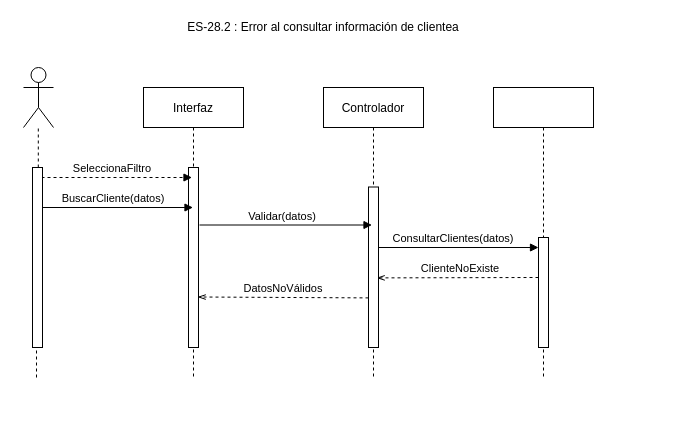
The diagram is 691 pixels wide and 424 high, and some of its shapes have lost their labels. Here are the shapes that lost their labels. From the top down, the centre of each, then its label:
point (38, 97): Gerente
point (543, 232): BBDD
